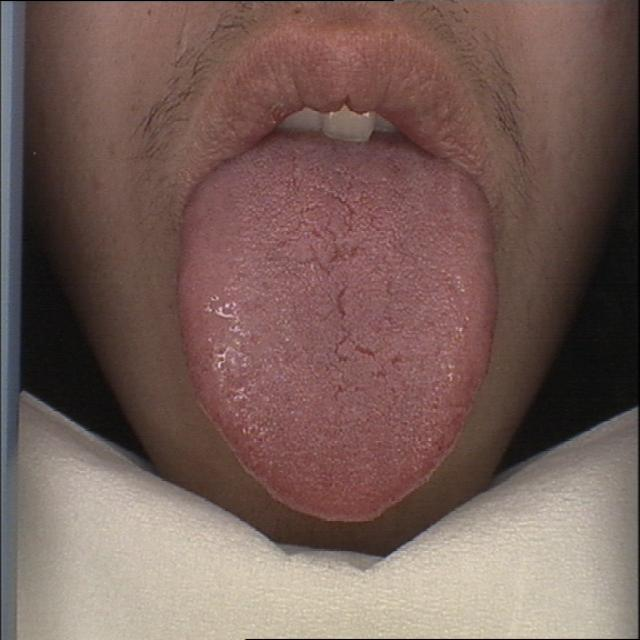tongue: (180, 149, 496, 524)
